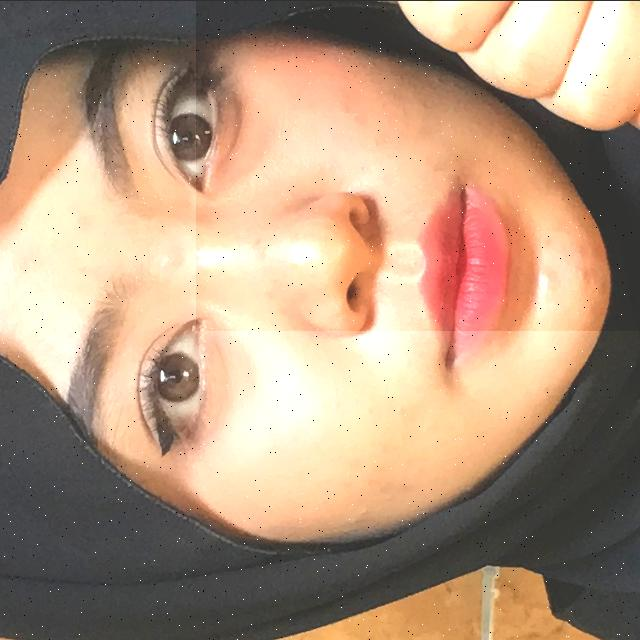sedih: (196, 0, 640, 330)
